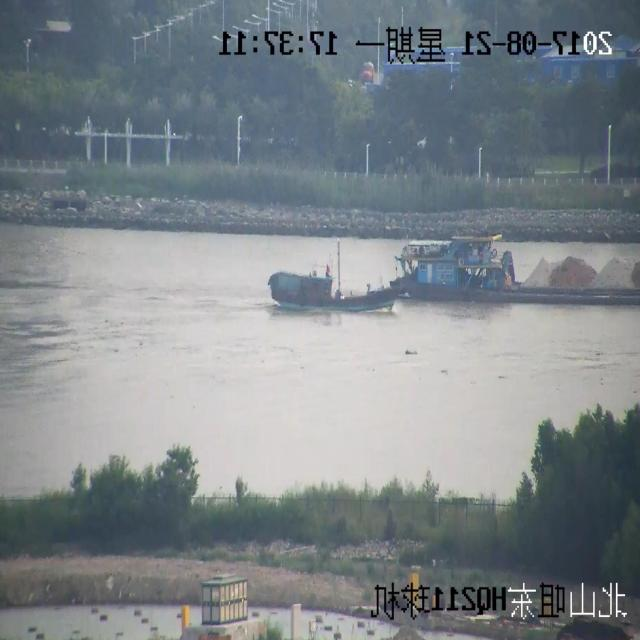cargoship: (412, 238, 640, 330)
fishing boat: (263, 260, 412, 337)
